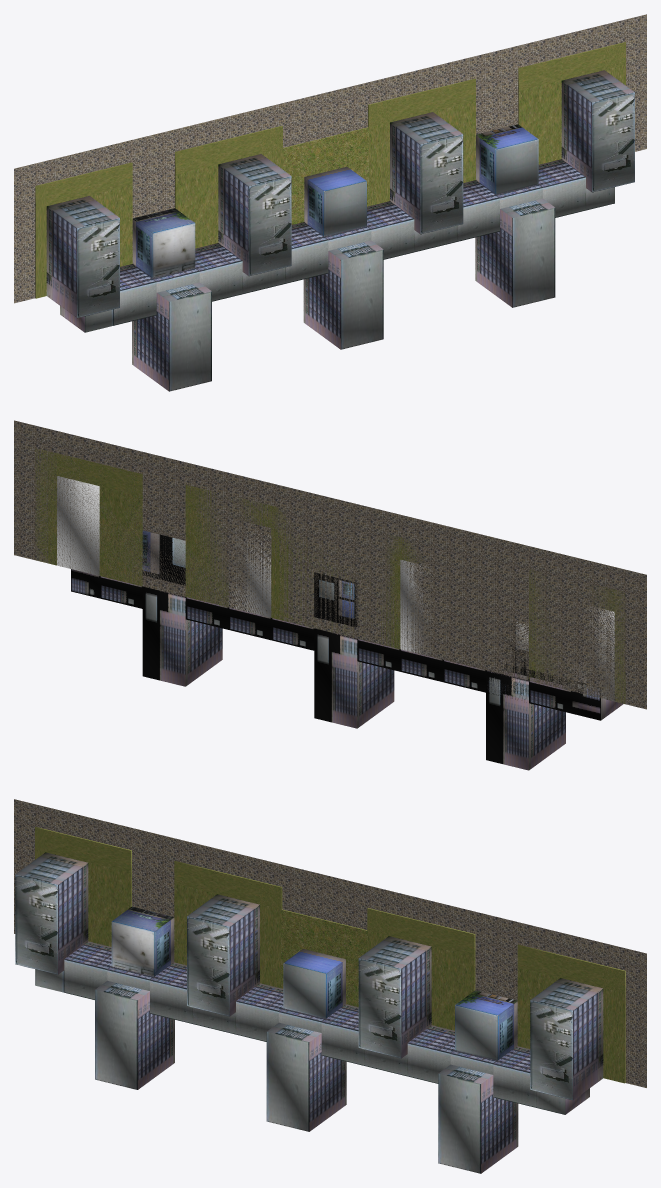
Rendered from blok_1.fbx.
3 renders of one model, top to bottom at view 1: azimuth 30°, elevation 25°; view 2: azimuth 150°, elevation 25°; view 3: azimuth 330°, elevation 25°, orthographic.
Visible parts, largest first — view 1: Cube.009; view 2: Cube.009; view 3: Cube.009.
Part boxes in pixels (bbox=[...]): Cube.009: bbox=[14, 14, 646, 391]; Cube.009: bbox=[14, 420, 646, 770]; Cube.009: bbox=[14, 799, 646, 1173].
Bounding box in the file's own units: 59 × 20 × 6.
11 materials, 10 textured.
